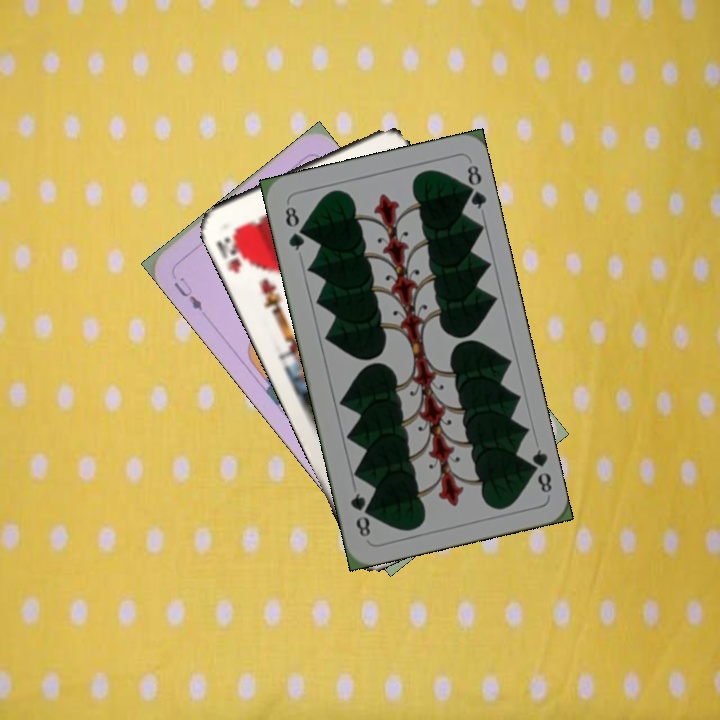EU: (169, 273, 206, 314)
G8: (523, 445, 555, 496), (281, 199, 307, 253)
HK: (212, 225, 254, 277)
